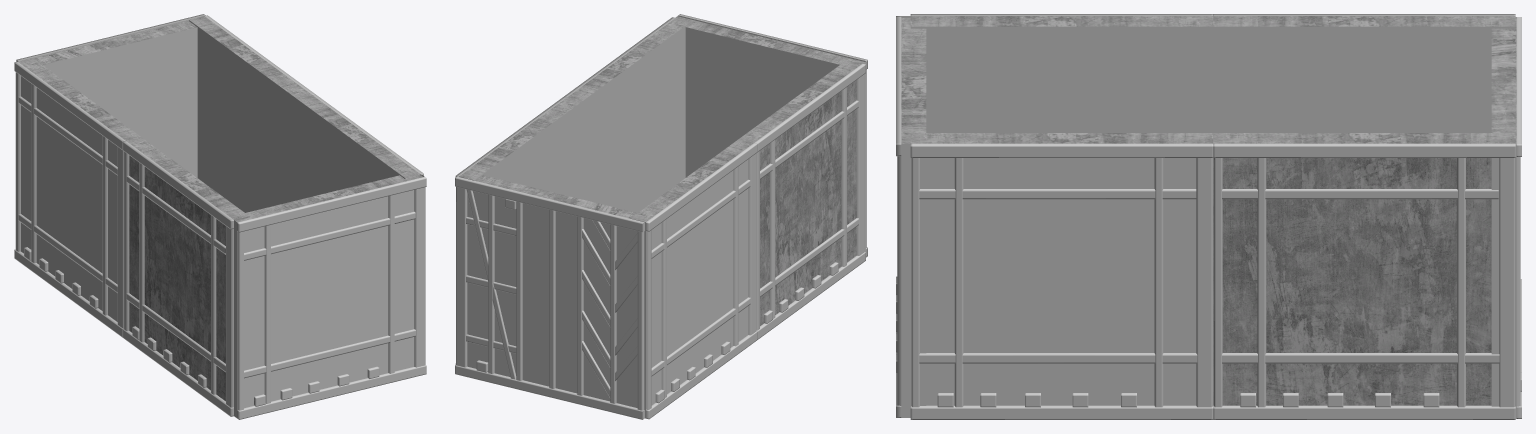
The model's file is SM_House1stFloor01.FBX.
The picture shows the model from 3 angles, left to right: view 1: azimuth 30°, elevation 25°; view 2: azimuth 150°, elevation 25°; view 3: azimuth 270°, elevation 25°; orthographic projection. The views are drawn at different scales.
Parts seen in each view (by area): view 1: SM_House1stFloor01; view 2: SM_House1stFloor01; view 3: SM_House1stFloor01.
Boxes of the visible parts, x1,y1,x2,y2 form: SM_House1stFloor01: (14, 14, 426, 419); SM_House1stFloor01: (455, 14, 867, 419); SM_House1stFloor01: (896, 14, 1521, 419).
Bounding box in the file's own units: 309 × 621 × 300.
